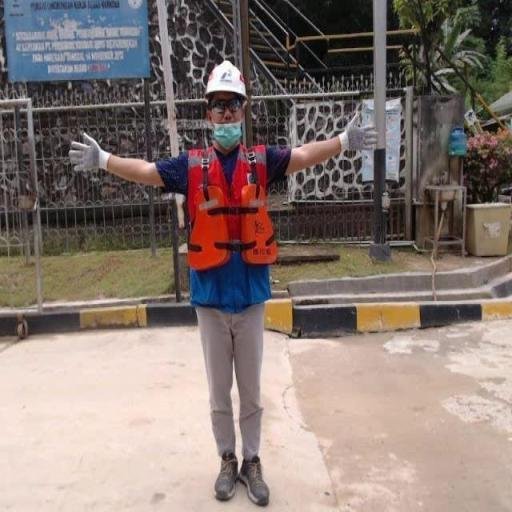Boots: (239, 457, 272, 508), (214, 453, 240, 504)
Helmet: (205, 61, 248, 102)
Person: (59, 49, 387, 512)
